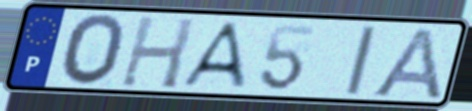5: (258, 22, 320, 92)
A: (366, 25, 445, 101), (177, 20, 250, 91)
H: (117, 13, 199, 91)
I: (342, 24, 380, 97)
O: (59, 11, 129, 88)
